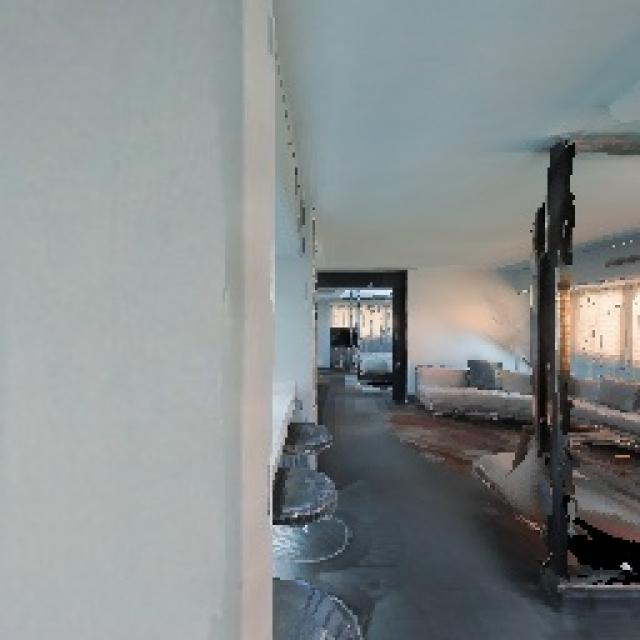chair: (261, 472, 358, 582), (273, 402, 351, 500)
door-frame: (306, 276, 411, 408)
sofa: (416, 343, 546, 435)
